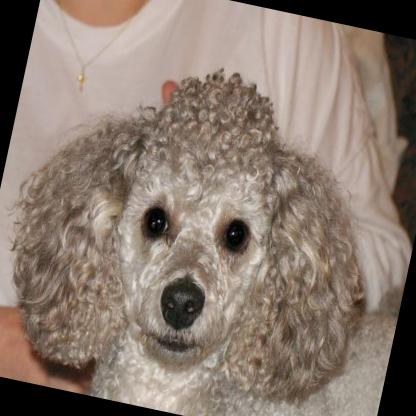toy_poodle: (0, 29, 416, 416)
